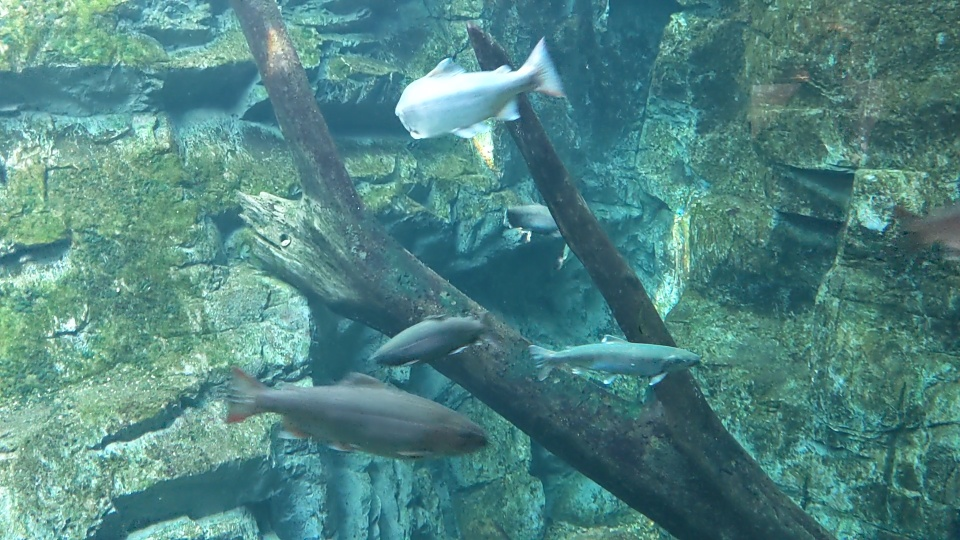Fish: (218, 364, 490, 464), (392, 41, 567, 136), (530, 336, 717, 403), (355, 309, 494, 364), (884, 193, 960, 260), (495, 198, 569, 243)
